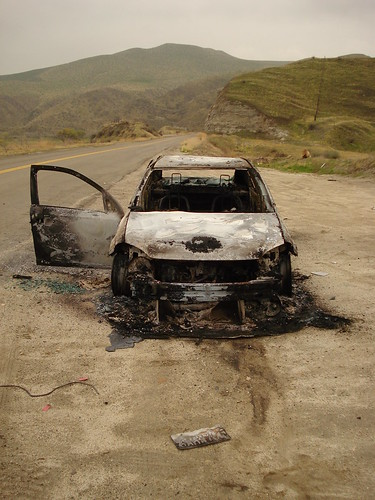car: (15, 151, 324, 333)
grass: (225, 49, 374, 161)
mountain: (4, 29, 271, 99)
street: (1, 128, 197, 259)
